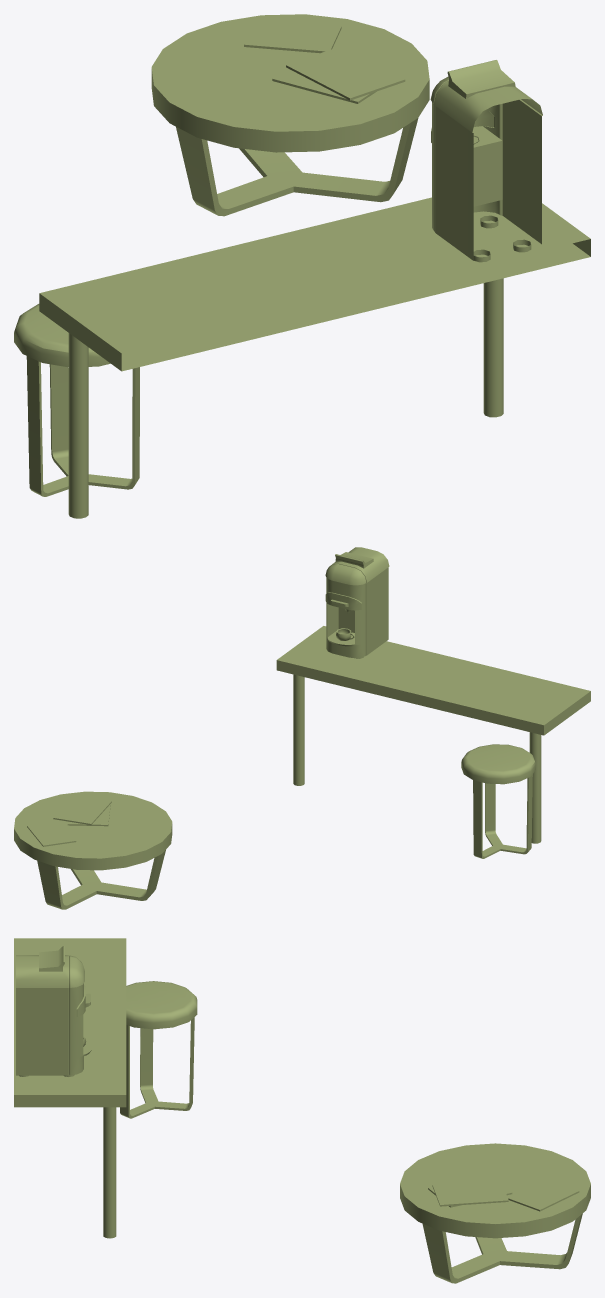
Rendered from Interior.fbx.
3 renders of one model, top to bottom at view 1: azimuth 30°, elevation 25°; view 2: azimuth 150°, elevation 25°; view 3: azimuth 270°, elevation 25°, orthographic. The views are drawn at different scales.
Parts seen in each view (by area): view 1: Dining_table, Coffee_table, Coffee_maker, Bar_stool, Magazines; view 2: Dining_table, Coffee_table, Coffee_maker, Bar_stool, Magazines; view 3: Coffee_table, Dining_table, Coffee_maker, Bar_stool, Magazines.
Part boxes in pixels (box(x1,y1,x2,y2)): Dining_table: box(39, 197, 590, 518); Coffee_table: box(151, 14, 429, 216); Coffee_maker: box(430, 60, 542, 262); Bar_stool: box(14, 304, 139, 496); Magazines: box(244, 19, 405, 103); Dining_table: box(276, 626, 590, 843); Coffee_table: box(14, 791, 172, 909); Coffee_maker: box(325, 547, 389, 658); Bar_stool: box(461, 744, 535, 858); Magazines: box(27, 795, 111, 846); Coffee_table: box(400, 1143, 590, 1283); Dining_table: box(14, 938, 126, 1238); Coffee_maker: box(16, 946, 92, 1076); Bar_stool: box(120, 981, 197, 1118); Magazines: box(428, 1174, 579, 1211).
Size of the model in its own units: 610 by 350 by 695.
